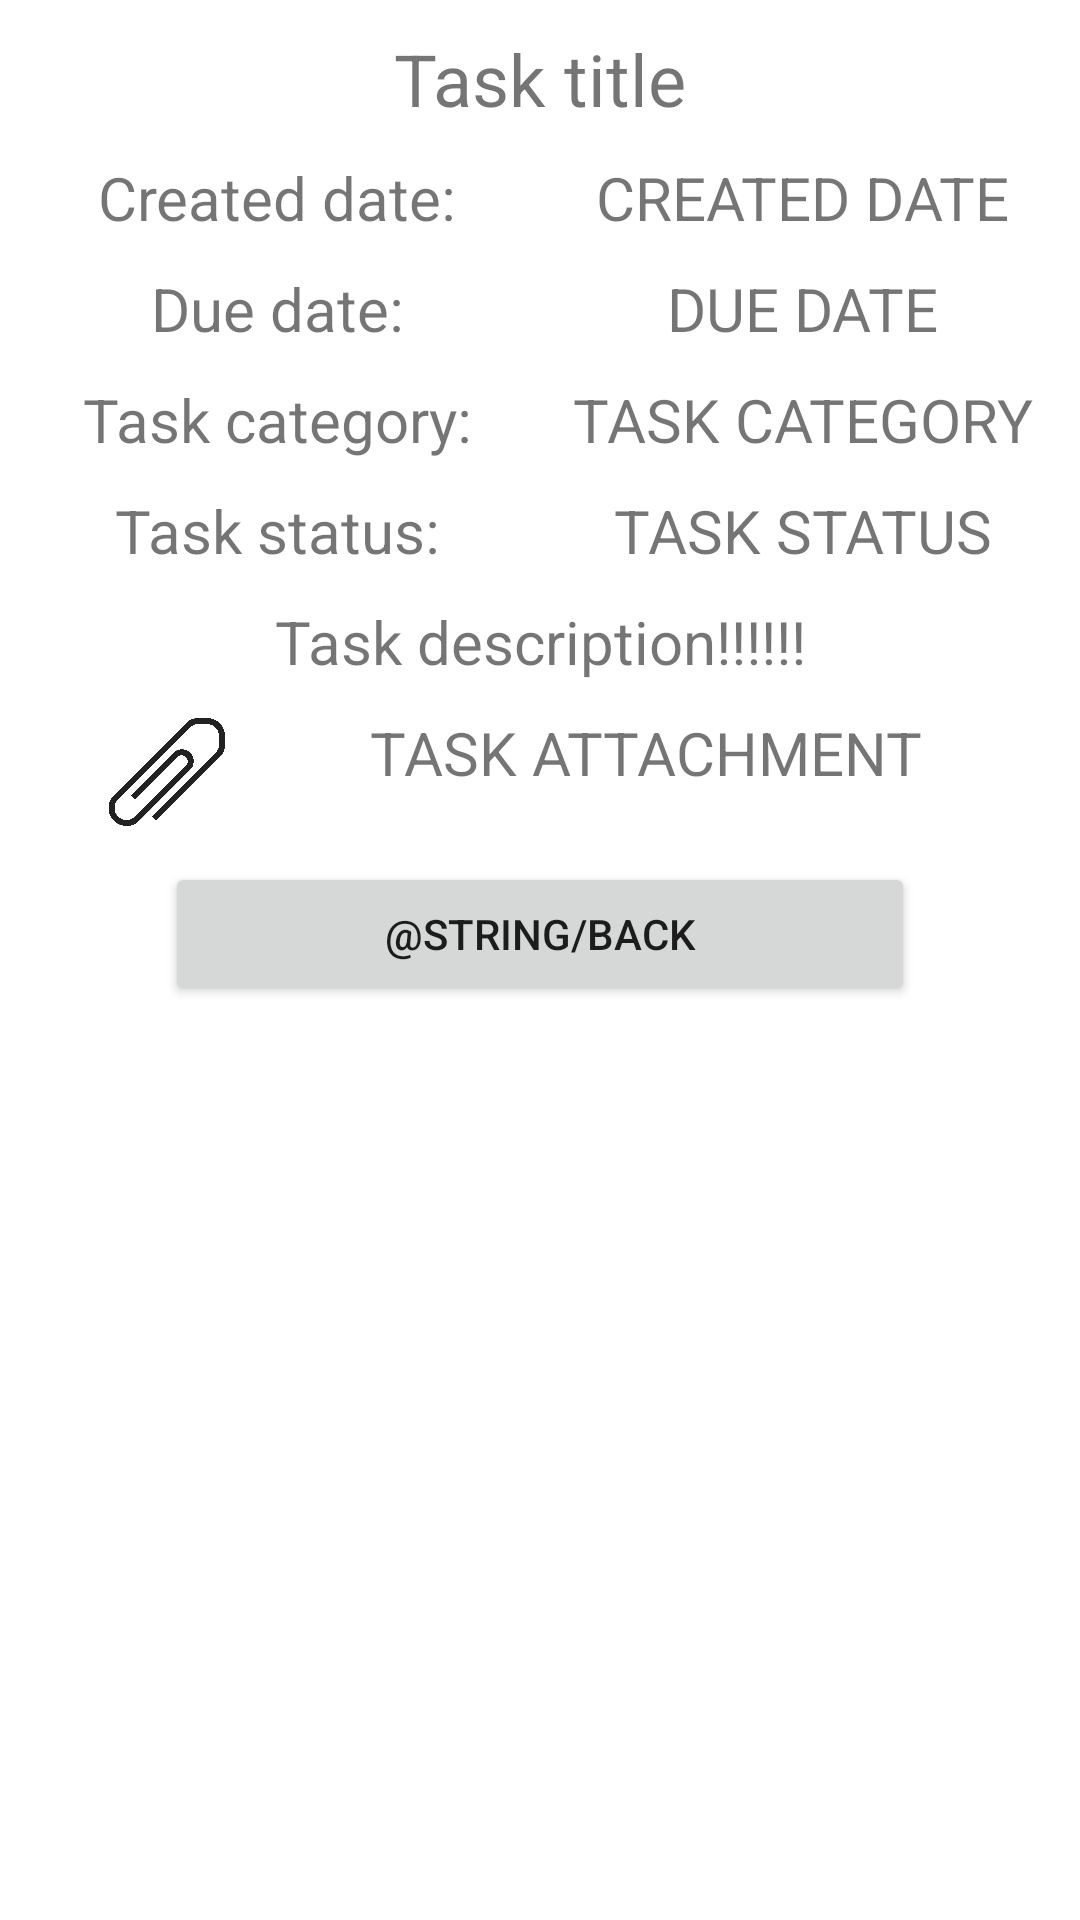

Icon click points for this 1080w x 1920h phone screenshot, format (x,y):
paperclip: (167,772)
